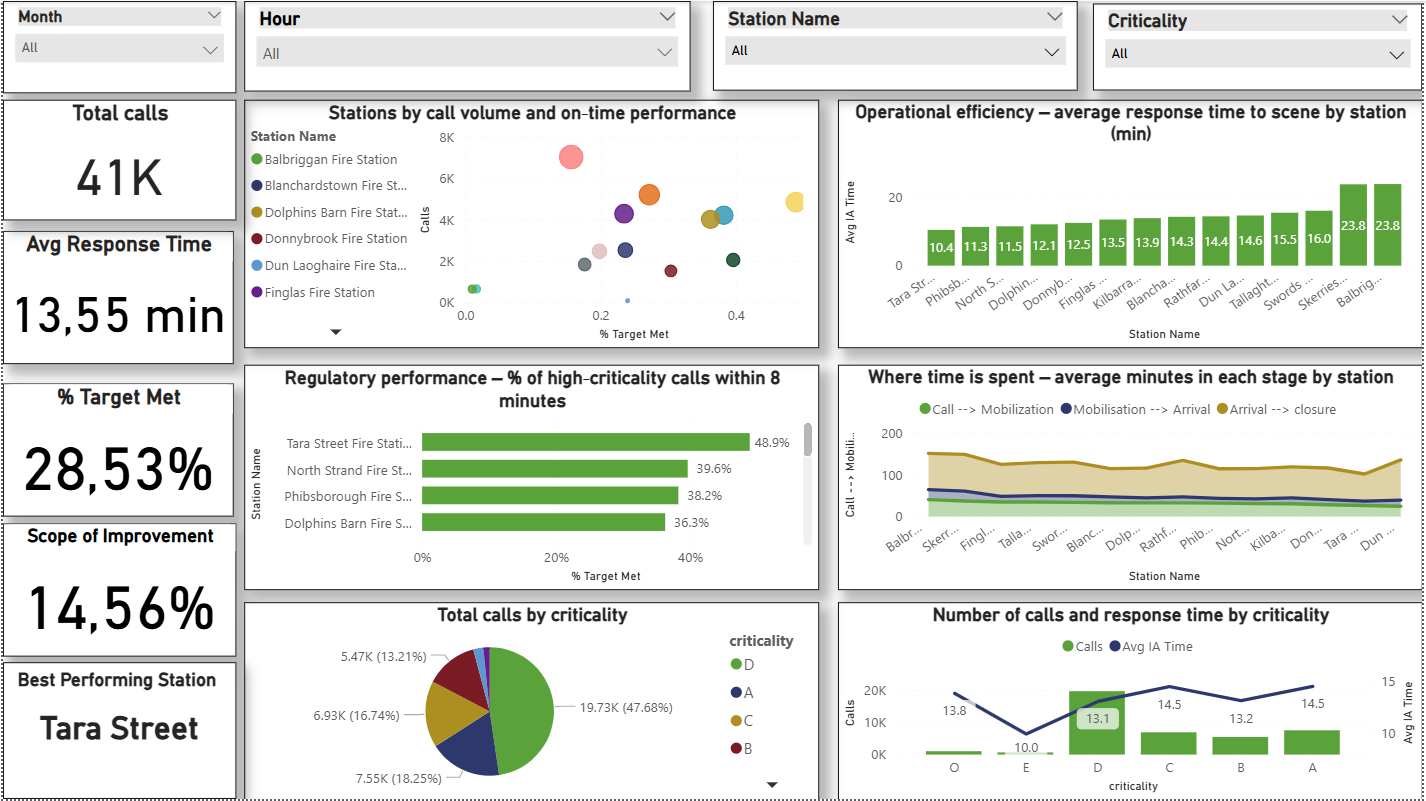

The page's visual inventory and layout, read from the dashboard file:
{"tool":"powerbi","page":{"name":"Ambulance service Review","canvas":[1280,720],"ordinal":6},"visuals":[{"type":"card","title":"Avg Response Time","fields":{"Values":["2023-open-data-dfb-ambulance (1).Avg IA Time"]},"box":[0,207.9,207.9,119.8],"z":0},{"type":"card","title":"% Target Met","fields":{"Values":["2023-open-data-dfb-ambulance (1).% Target Met"]},"box":[0,344.8,207.9,119.8],"z":1000},{"type":"card","title":"Scope of Improvement","fields":{"Values":["2023-open-data-dfb-ambulance (1).% Improvement vs Today"]},"box":[0,470.8,210.3,119.8],"z":2000},{"type":"columnChart","title":"Operational efficiency – average response time to scene by station (min)","fields":{"Category":["2023-open-data-dfb-ambulance (1).Station Name"],"Y":["2023-open-data-dfb-ambulance (1).Avg IA Time"]},"box":[753.3,89.3,527,223.8],"z":3000},{"type":"clusteredBarChart","title":"Regulatory performance – % of high‑criticality calls within 8 minutes","fields":{"Category":["2023-open-data-dfb-ambulance (1).Station Name"],"Y":["2023-open-data-dfb-ambulance (1).% Target Met"]},"box":[217.7,327.7,518.5,203],"z":4000},{"type":"stackedAreaChart","title":"Where time is spent – average minutes in each stage by station","fields":{"Category":["2023-open-data-dfb-ambulance (1).Station Name"],"Y":["Avg(2023-open-data-dfb-ambulance (1).Call To Mobilisation)","Avg(2023-open-data-dfb-ambulance (1).Mobilisation to Arrival)","Avg(2023-open-data-dfb-ambulance (1).Arrival to closure)"]},"box":[753.3,327.7,527,203],"z":5000},{"type":"scatterChart","title":"Stations by call volume and on‑time performance","fields":{"X":["2023-open-data-dfb-ambulance (1).% Target Met"],"Y":["2023-open-data-dfb-ambulance (1).Calls"],"Category":["2023-open-data-dfb-ambulance (1).Station Name"],"Size":["CountNonNull(2023-open-data-dfb-ambulance (1).Station Name)"],"Series":["2023-open-data-dfb-ambulance (1).Station Name"]},"box":[217.7,89.3,518.5,223.8],"z":6000},{"type":"lineClusteredColumnComboChart","title":"Number of calls and response time by criticality","fields":{"Category":["2023-open-data-dfb-ambulance (1).criticality"],"Y":["2023-open-data-dfb-ambulance (1).Calls"],"Y2":["2023-open-data-dfb-ambulance (1).Avg IA Time"]},"box":[753.3,541.7,527,178.5],"z":7000},{"type":"pieChart","title":"Total calls by criticality","fields":{"Category":["2023-open-data-dfb-ambulance (1).criticality"],"Y":["CountNonNull(2023-open-data-dfb-ambulance (1).criticality)"]},"box":[217.7,541.7,518.5,178.5],"z":8000},{"type":"slicer","fields":{"Values":["2023-open-data-dfb-ambulance (1).Call Month"]},"box":[0,0,210.3,83.2],"z":9000},{"type":"slicer","fields":{"Values":["2023-open-data-dfb-ambulance (1).Call Hour"]},"box":[217.7,0,402.3,81.9],"z":10000},{"type":"slicer","fields":{"Values":["2023-open-data-dfb-ambulance (1).Station Name"]},"box":[640.8,0,328.9,80.7],"z":11000},{"type":"slicer","fields":{"Values":["2023-open-data-dfb-ambulance (1).criticality"]},"box":[983.2,2.4,297.1,78.3],"z":12000},{"type":"card","title":"Total calls","fields":{"Values":["2023-open-data-dfb-ambulance (1).Calls"]},"box":[0,89.3,210.3,108.8],"z":13000},{"type":"textbox","box":[0,596.7,210.3,123.5],"z":14000}]}

Visuals, with their boxes in screenshot pixels (x1, y1, x2, y2), scaled from the page's 1280x720 canvas onto the 1426x801 screenshot:
"Avg Response Time" card: box=[0, 231, 232, 365]
"% Target Met" card: box=[0, 384, 232, 517]
"Scope of Improvement" card: box=[0, 524, 234, 657]
"Operational efficiency – average response time to scene by station (min)" columnChart: box=[839, 99, 1425, 348]
"Regulatory performance – % of high‑criticality calls within 8 minutes" clusteredBarChart: box=[243, 365, 820, 590]
"Where time is spent – average minutes in each stage by station" stackedAreaChart: box=[839, 365, 1425, 590]
"Stations by call volume and on‑time performance" scatterChart: box=[243, 99, 820, 348]
"Number of calls and response time by criticality" lineClusteredColumnComboChart: box=[839, 603, 1425, 800]
"Total calls by criticality" pieChart: box=[243, 603, 820, 800]
slicer - 2023-open-data-dfb-ambulance (1).Call Month: box=[0, 0, 234, 93]
slicer - 2023-open-data-dfb-ambulance (1).Call Hour: box=[243, 0, 691, 91]
slicer - 2023-open-data-dfb-ambulance (1).Station Name: box=[714, 0, 1080, 90]
slicer - 2023-open-data-dfb-ambulance (1).criticality: box=[1095, 3, 1425, 90]
"Total calls" card: box=[0, 99, 234, 220]
textbox: box=[0, 664, 234, 800]
